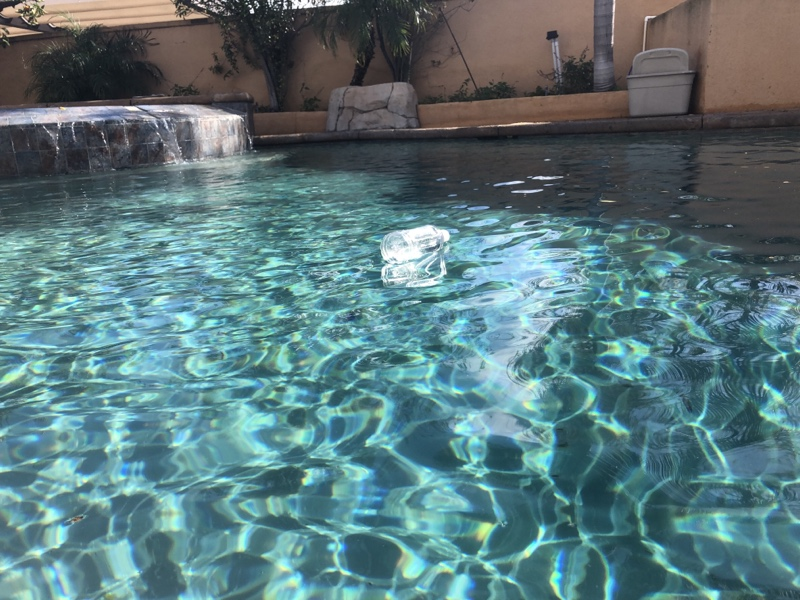Plastic Bottle: (376, 225, 454, 263)
